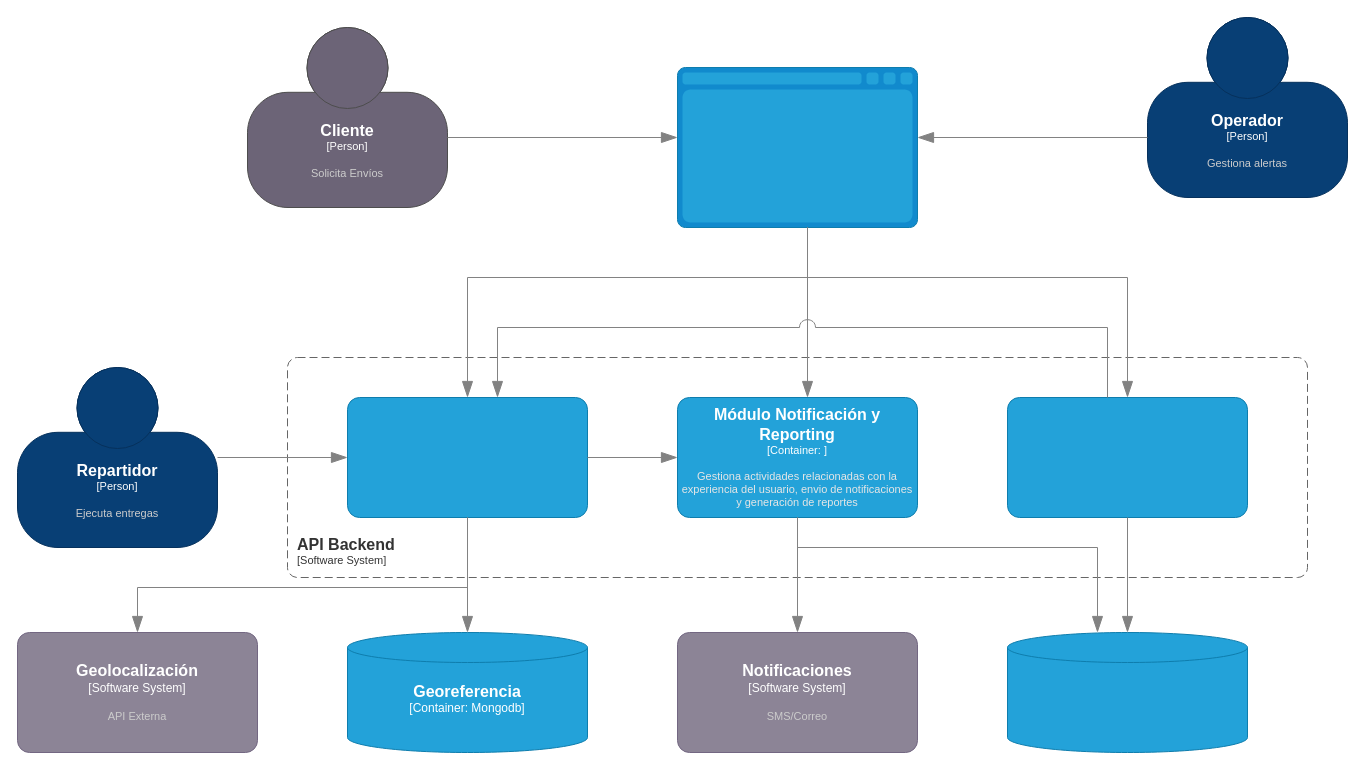
Image size: 1365x770. Some labels were removed from this diagram. The centre of each missing label's shape, as x and y in pixels:
"Aplicación Web [Container: ] Interfaz de usuario" belongs at (x=797, y=147).
"Módulo Georeferenciación [Container: ] Gestiona la georeferencia y rastreo" belongs at (x=467, y=457).
"Módulo Operaciones [Container: ] Gestiona ordenes, asignaciones y facturación" belongs at (x=1127, y=457).
"Operaciones [Container: Postgresql]" belongs at (x=1127, y=692).
